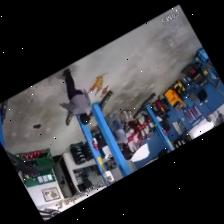person: (62, 68, 90, 124), (107, 112, 126, 148), (120, 110, 141, 139)
